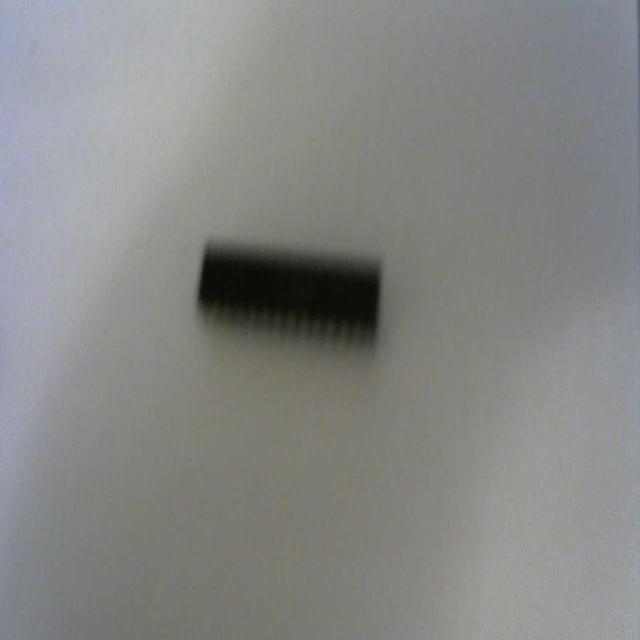atmega: (194, 232, 384, 363)
